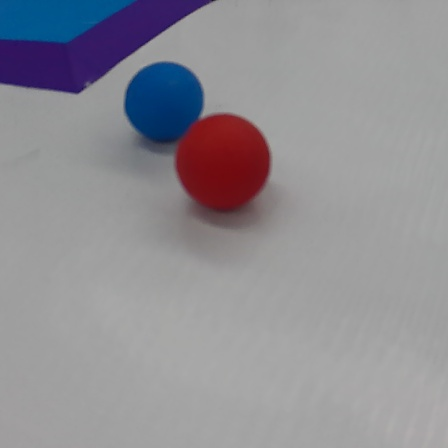blue: (125, 57, 204, 147)
blue_aim: (0, 0, 221, 105)
red: (169, 111, 277, 220)
